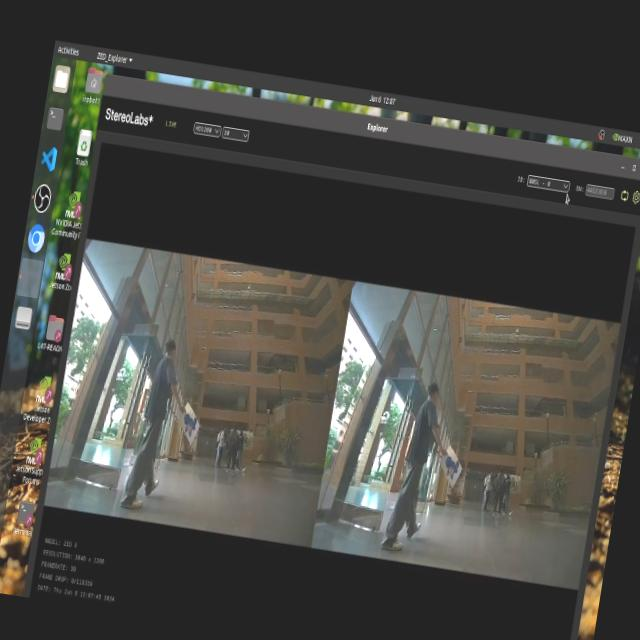blue: (178, 406, 204, 437), (438, 445, 462, 474)
